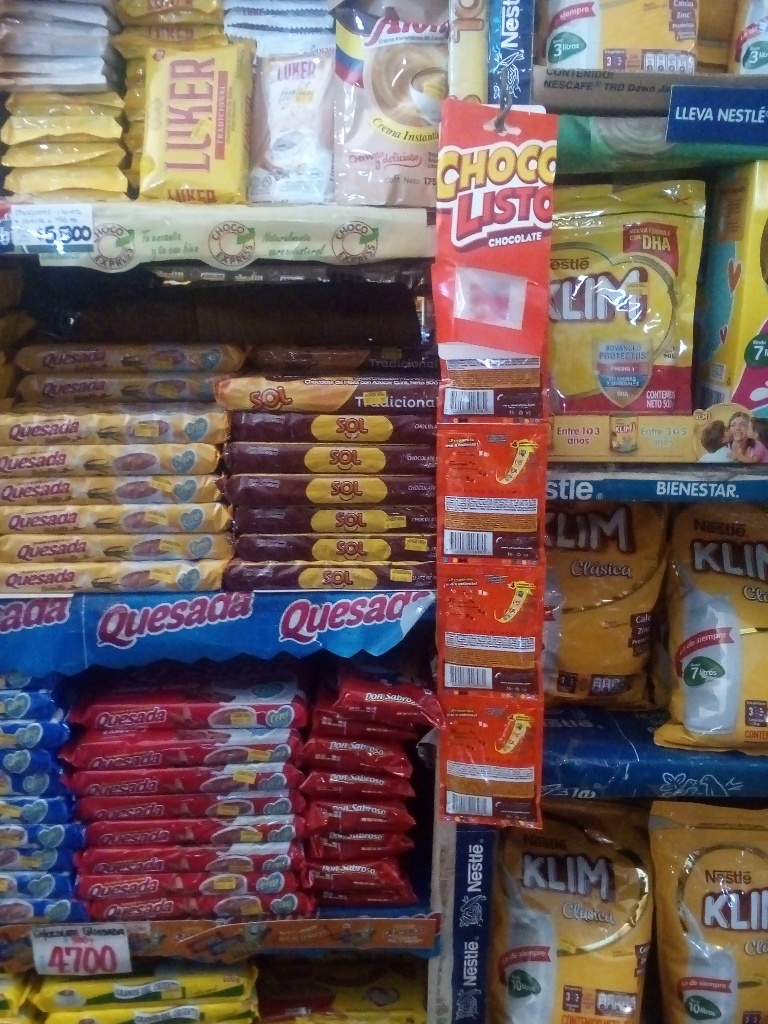COL0170103SOB02000: (436, 413, 542, 571)
